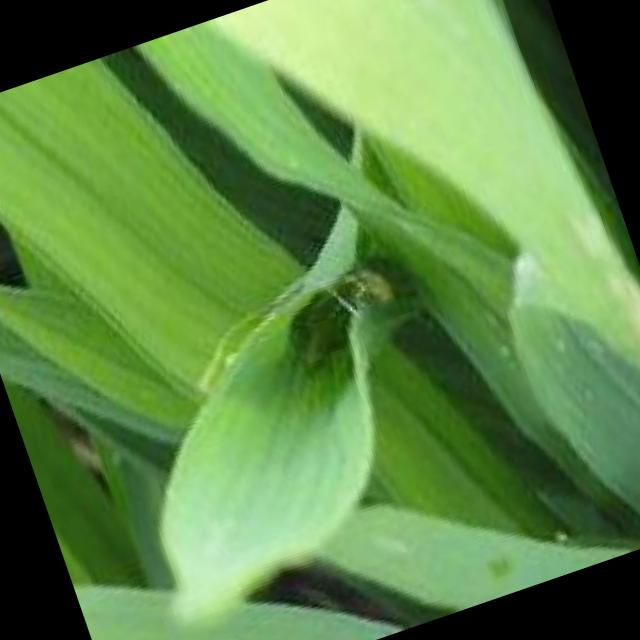leaf-folder: (256, 226, 435, 397)
